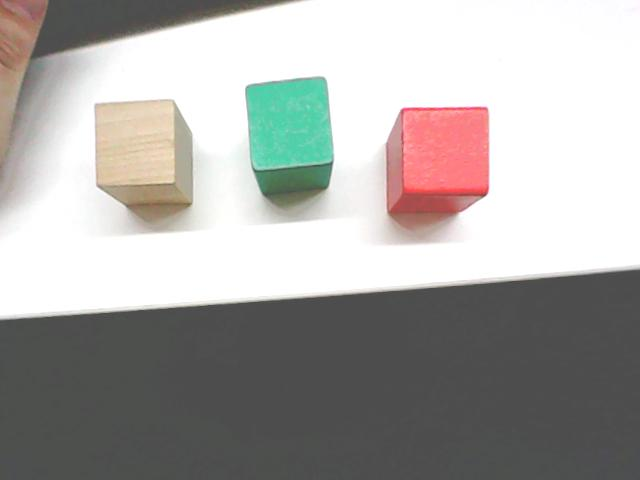green_box: (238, 73, 342, 200)
raw_box: (88, 97, 200, 211)
red_box: (382, 101, 494, 222)
